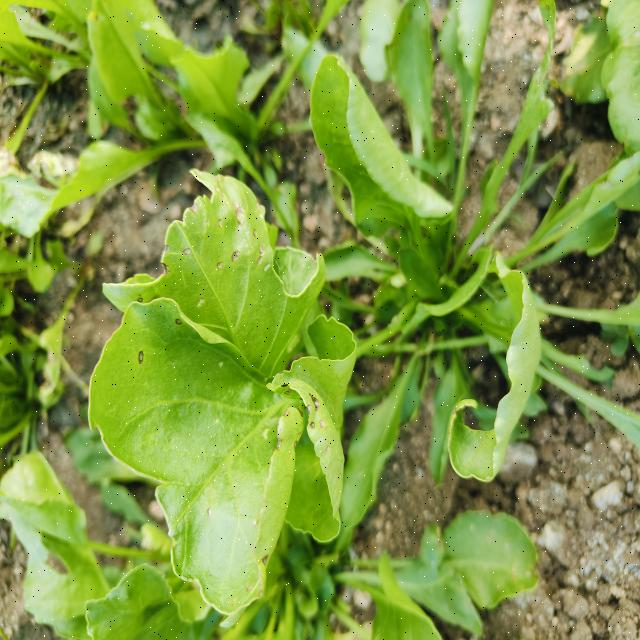leaves: (63, 315, 299, 622), (85, 179, 336, 381), (296, 47, 455, 301), (158, 31, 312, 251), (441, 257, 564, 495), (310, 512, 553, 614)
